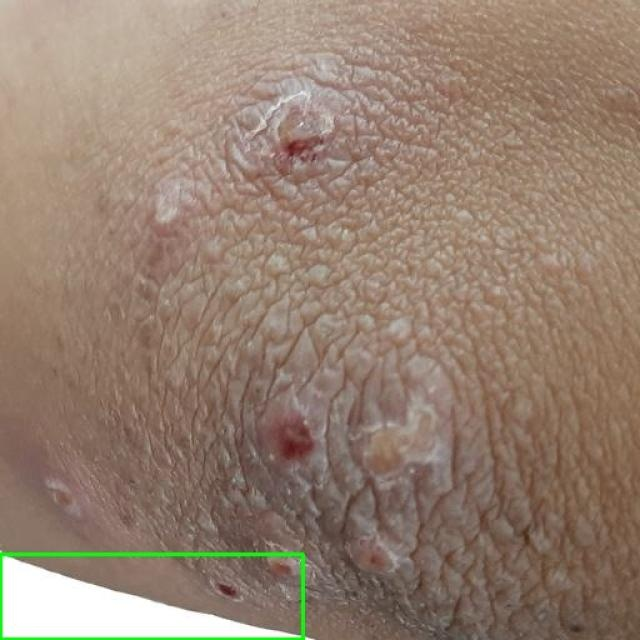Contact Dermatitis: (0, 554, 304, 639)
